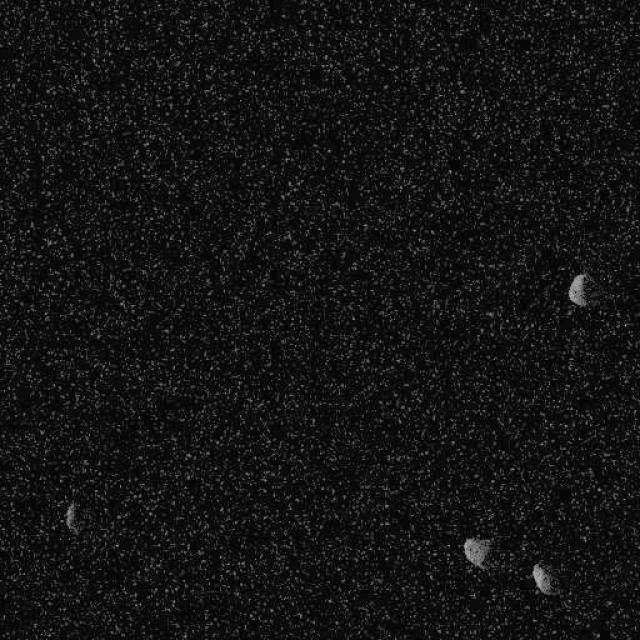D2: (461, 535, 491, 570), (530, 562, 560, 596), (64, 500, 91, 535), (566, 272, 590, 308)
